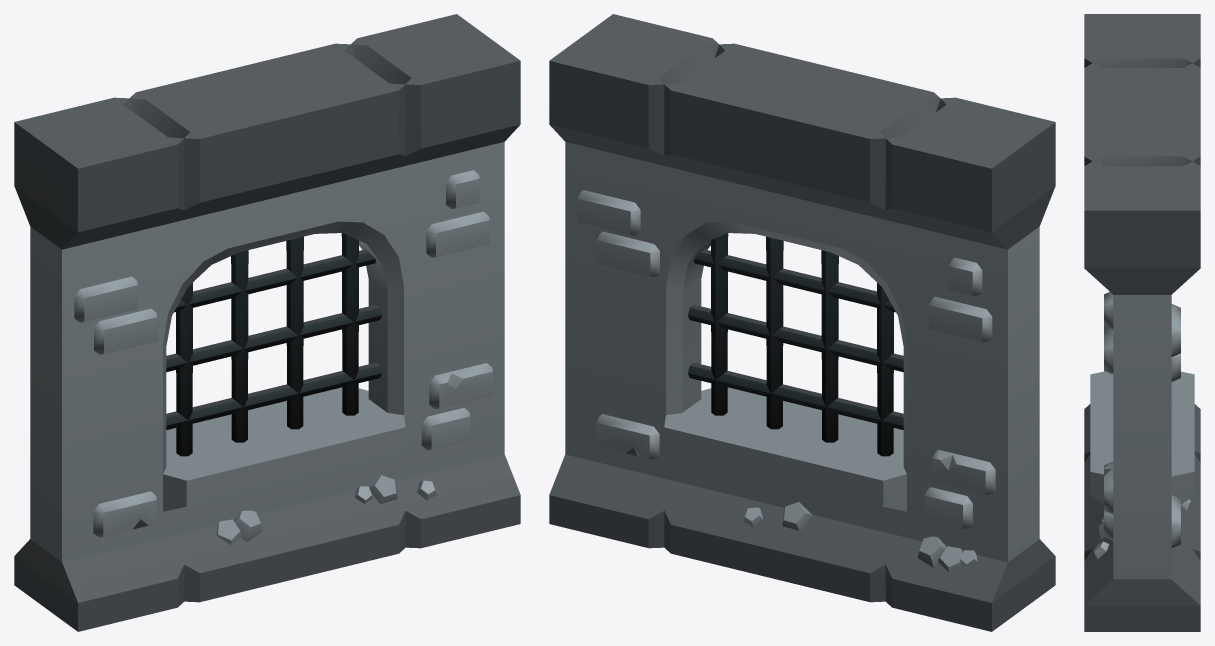
Rendered from wall_archedwindow_gated.glb.
3 renders of one model, left to right at view 1: azimuth 30°, elevation 25°; view 2: azimuth 150°, elevation 25°; view 3: azimuth 270°, elevation 25°, orthographic. The views are drawn at different scales.
Parts seen in each view (by area): view 1: wall_archedwindow_gated; view 2: wall_archedwindow_gated; view 3: wall_archedwindow_gated.
Boxes of the visible parts, x1,y1,x2,y2 form: wall_archedwindow_gated: (14,14,520,631); wall_archedwindow_gated: (549,14,1055,631); wall_archedwindow_gated: (1084,14,1200,631).
Size of the model in its own units: 2 by 2 by 0.5.
1 material, 1 textured.
